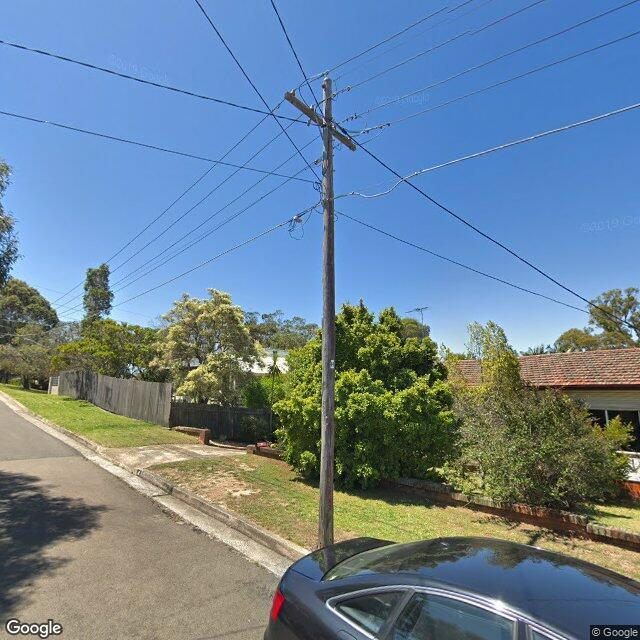crossarm: (283, 88, 359, 152)
timber-pole: (316, 76, 334, 550)
